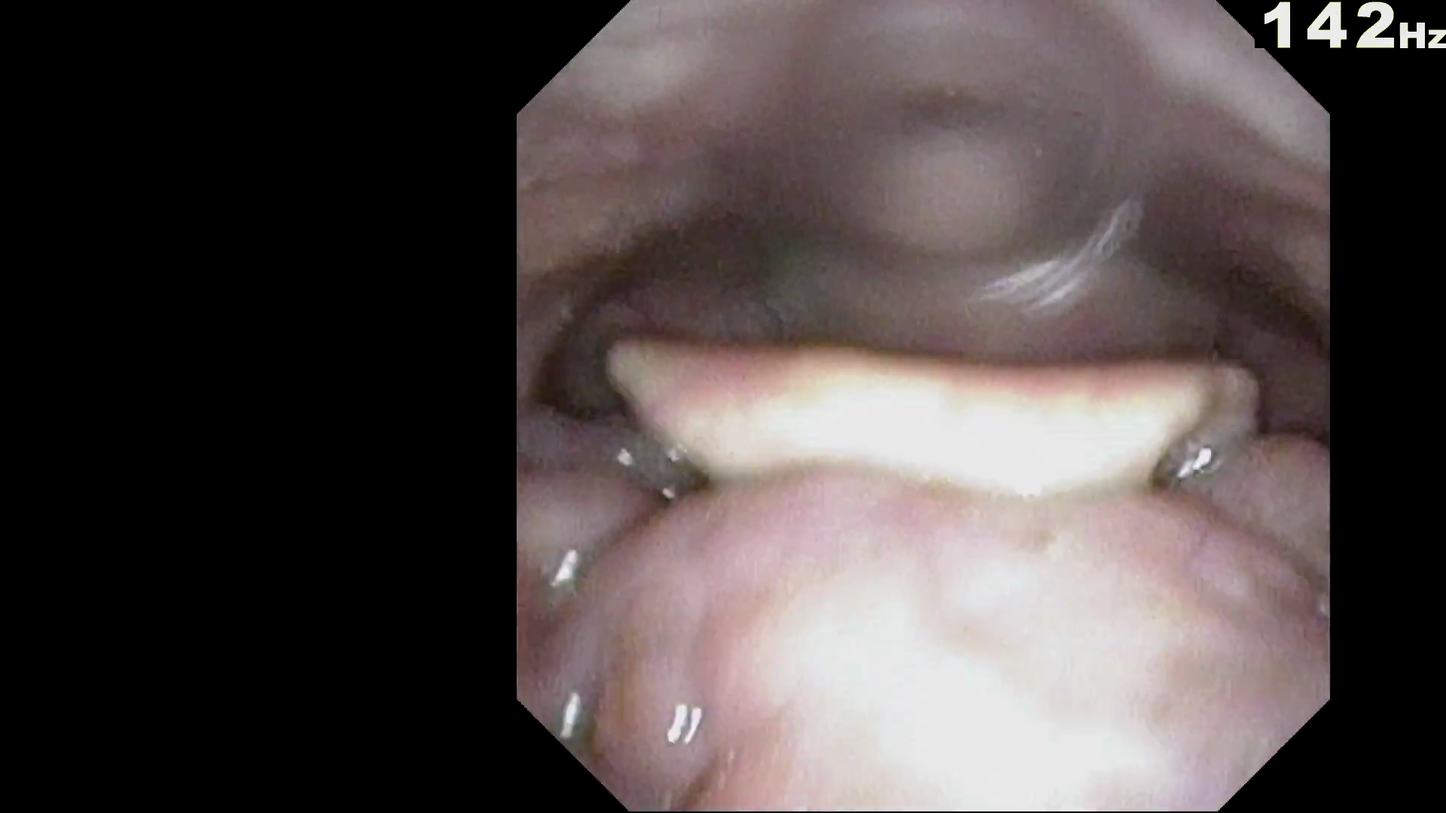epiglottis: (626, 344, 1241, 569)
